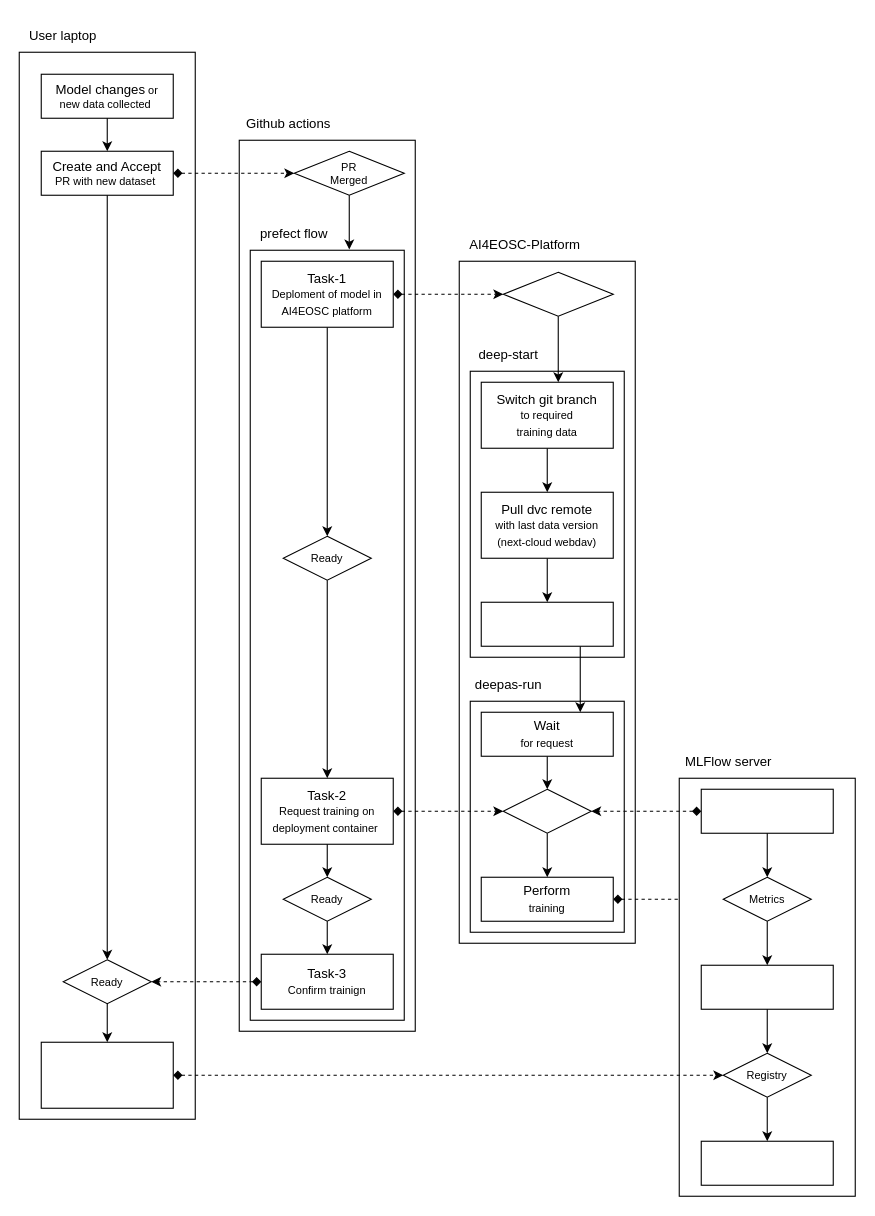
This 875x1216 diagram has some shape labels left out. Here are the shapes that lost their labels. From the top down, the box of each, then its label:
(502, 271, 613, 316): API Deploy
(480, 601, 613, 646): Start deepaas service
(502, 788, 591, 833): Training
(700, 788, 833, 833): Provide model from registry
(700, 964, 833, 1009): Save experiment mterics and model
(40, 1041, 173, 1108): Evaluate and update stage/Production model version
(700, 1140, 833, 1185): Save model in registry
